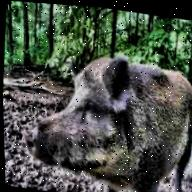boar: (15, 40, 192, 192)
